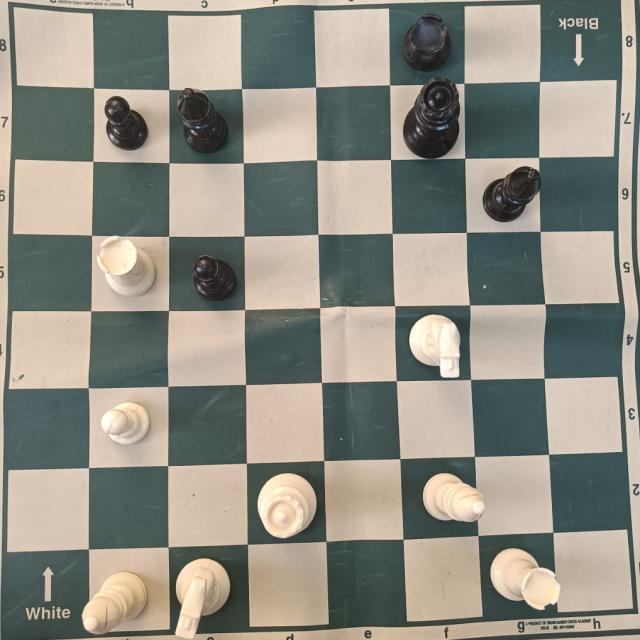black-bishop: (177, 86, 231, 152), (484, 164, 543, 224)
black-pawn: (104, 94, 151, 152), (194, 253, 240, 302)
black-queen: (402, 80, 461, 159)
black-rook: (402, 11, 454, 72)
white-bishop: (81, 570, 150, 632), (422, 468, 487, 525)
white-knight: (175, 557, 232, 631), (408, 312, 463, 379)
white-pawn: (100, 401, 153, 446)
white-queen: (258, 471, 318, 539)
white-rook: (490, 548, 561, 610), (96, 237, 157, 296)
